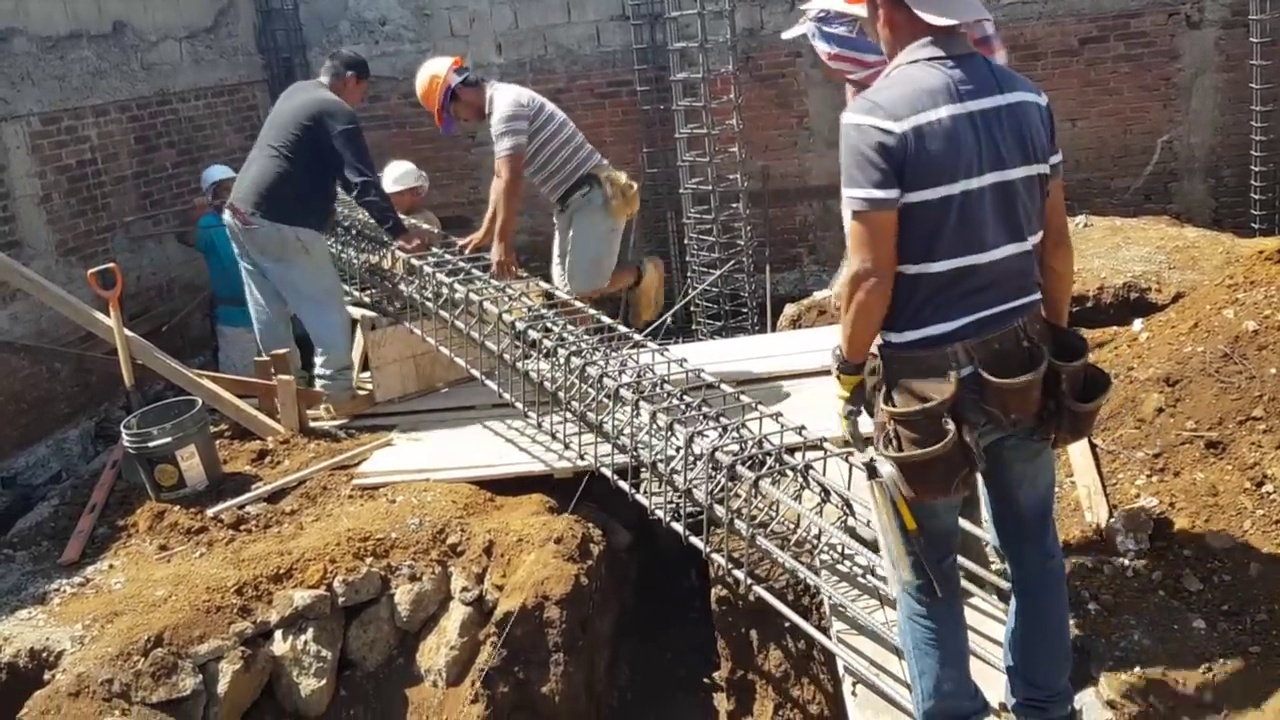helmet: (414, 48, 468, 126), (380, 158, 430, 194), (198, 164, 237, 193)
helmet-off: (866, 0, 995, 69), (316, 45, 371, 106)
helmet-on: (798, 2, 891, 96), (413, 49, 493, 136), (379, 156, 430, 216), (197, 165, 238, 216)
person: (806, 0, 1114, 718), (224, 36, 421, 421), (415, 46, 665, 329), (179, 164, 258, 372), (376, 155, 447, 251)
